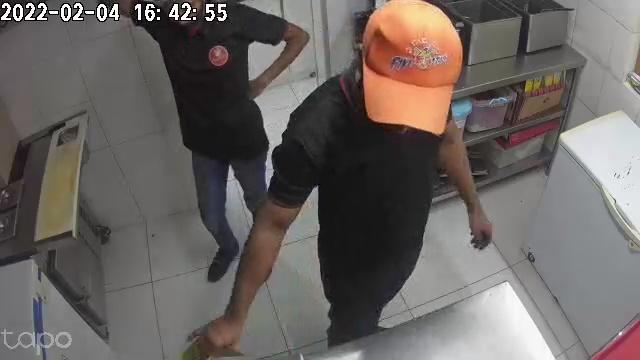no_gloves: (464, 196, 491, 253)
